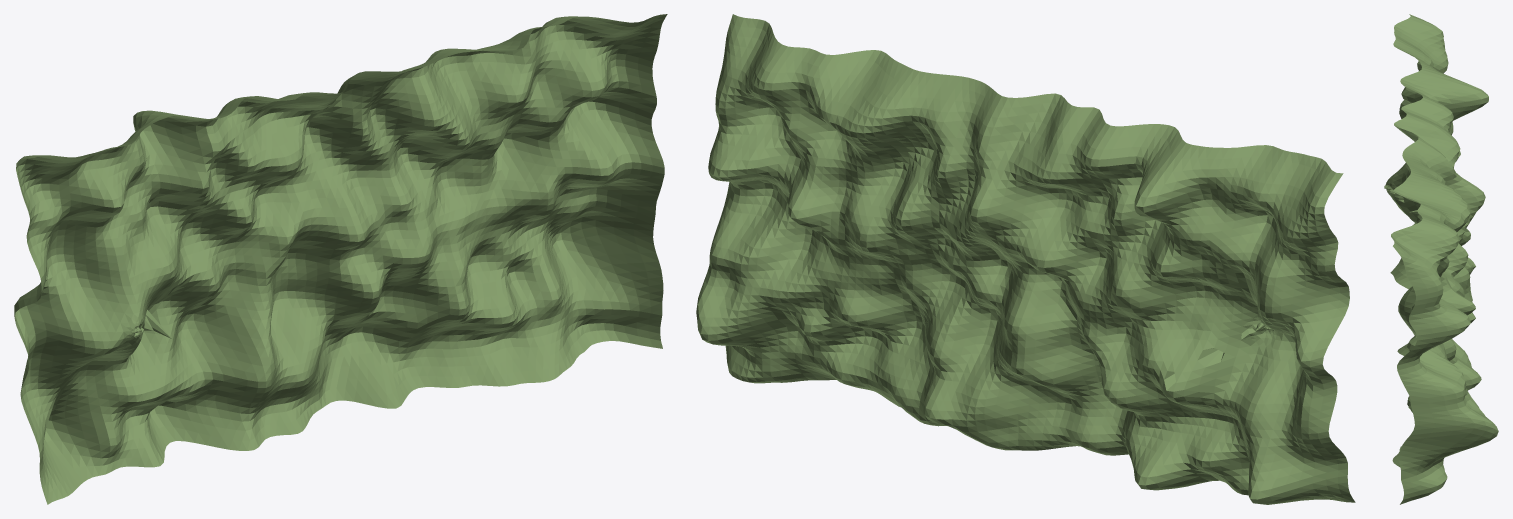
Rendered from Route_4.obj.
3 views of the same model, side by side, from view 1: azimuth 30°, elevation 25°; view 2: azimuth 150°, elevation 25°; view 3: azimuth 270°, elevation 25° (orthographic). The views are drawn at different scales.
Parts seen in each view (by area): view 1: Background; view 2: Background; view 3: Background.
Part boxes in pixels (x1,y1,x2,y2): Background: (14,14,667,504); Background: (696,14,1355,504); Background: (1384,14,1498,504).
Bounding box in the file's own units: 4000 × 2080 × 833.
